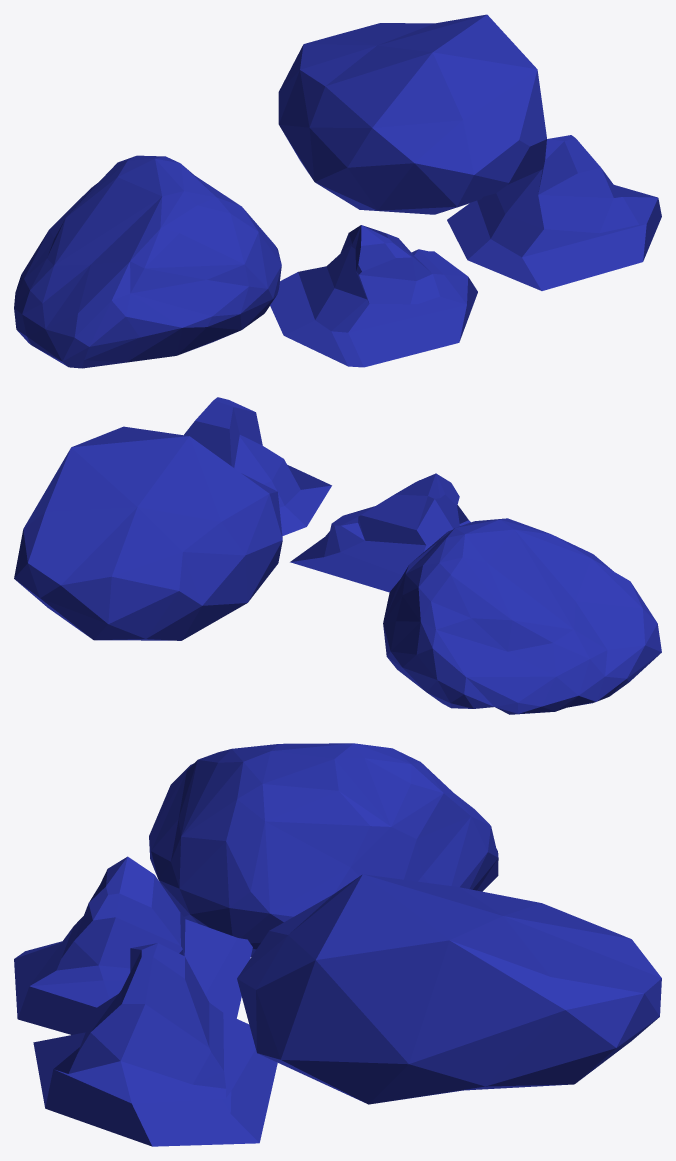
Rendered from rockCollection.fbx.
The picture shows the model from 3 angles, top to bottom: view 1: azimuth 30°, elevation 25°; view 2: azimuth 150°, elevation 25°; view 3: azimuth 270°, elevation 25°; orthographic projection. The views are drawn at different scales.
Parts seen in each view (by area): view 1: rock.002, rock.004, Shore_Rock, Shore_Rock.001; view 2: rock.002, rock.004, Shore_Rock.001, Shore_Rock; view 3: rock.002, rock.004, Shore_Rock, Shore_Rock.001.
Boxes of the visible parts, box(x1,y1,x2,y2) form: rock.002: box(278, 14, 546, 214); rock.004: box(14, 155, 281, 368); Shore_Rock: box(447, 135, 661, 290); Shore_Rock.001: box(270, 225, 477, 367); rock.002: box(14, 426, 282, 640); rock.004: box(383, 518, 661, 714); Shore_Rock.001: box(290, 473, 470, 592); Shore_Rock: box(184, 397, 331, 536); rock.002: box(237, 874, 661, 1104); rock.004: box(149, 743, 498, 956); Shore_Rock: box(33, 943, 277, 1146); Shore_Rock.001: box(14, 856, 252, 1034).
Bounding box in the file's own units: 2293 × 693 × 1738.
